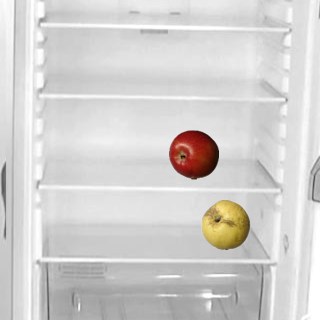Apple Braeburn: (168, 129, 218, 179)
Apple Golden 1: (200, 199, 250, 249)
